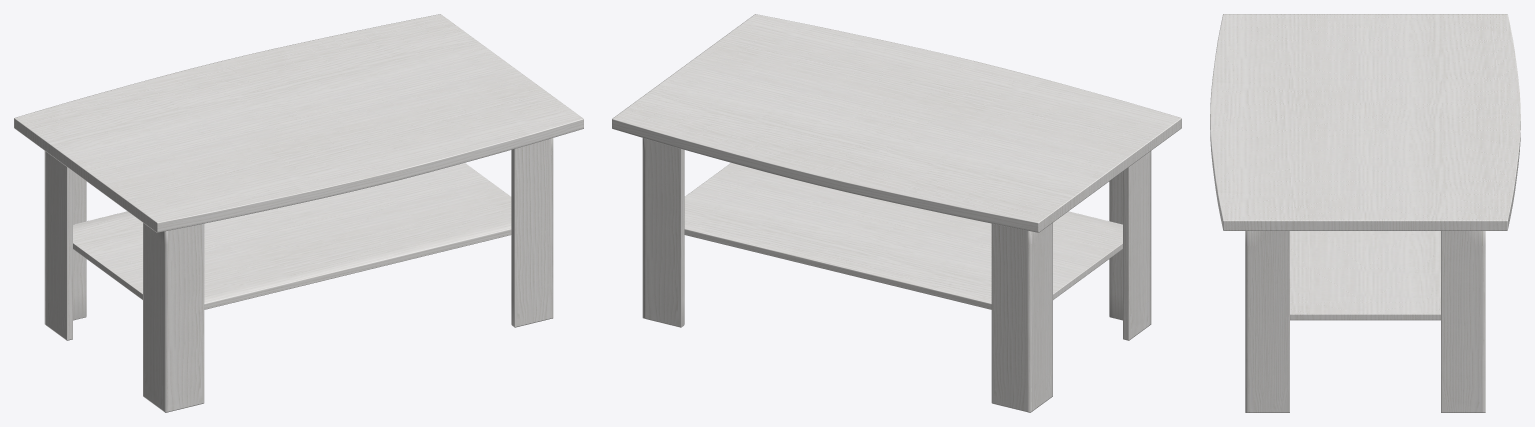
The model's file is table.gltf.
3 views of the same model, side by side, from view 1: azimuth 30°, elevation 25°; view 2: azimuth 150°, elevation 25°; view 3: azimuth 270°, elevation 25° (orthographic).
Parts seen in each view (by area): view 1: coffee_table_anrex_olivia; view 2: coffee_table_anrex_olivia; view 3: coffee_table_anrex_olivia.
Boxes of the visible parts, x1,y1,x2,y2 form: coffee_table_anrex_olivia: [14, 14, 583, 412]; coffee_table_anrex_olivia: [612, 14, 1181, 412]; coffee_table_anrex_olivia: [1210, 14, 1520, 412].
Size of the model in its own units: 1.1 by 0.5 by 0.6987.
Materials: 1 (1 with a texture image).
